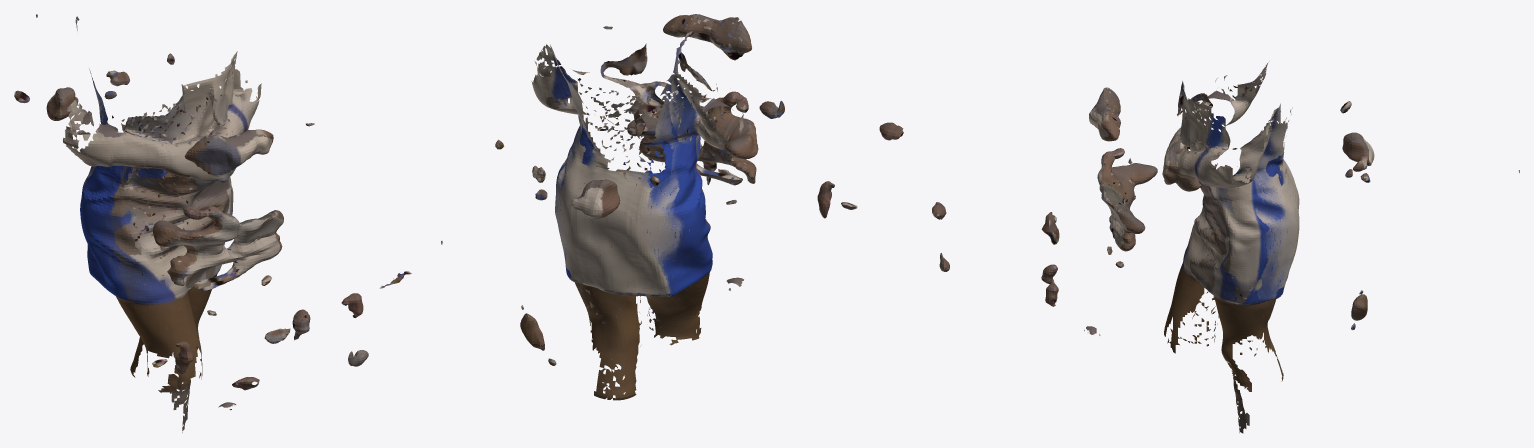
Rendered from gen-zola-v6-clean.glb.
3 renders of one model, left to right at view 1: azimuth 30°, elevation 25°; view 2: azimuth 150°, elevation 25°; view 3: azimuth 270°, elevation 25°, orthographic. The views are drawn at different scales.
Visible parts, largest first — view 1: geometry_0.3185; view 2: geometry_0.3185; view 3: geometry_0.3185.
Boxes of the visible parts, x1,y1,x2,y2 form: geometry_0.3185: [14, 14, 411, 432]; geometry_0.3185: [441, 14, 903, 400]; geometry_0.3185: [932, 62, 1519, 433].
Size of the model in its own units: 0.8803 by 1.38 by 1.94.
1 material, 1 textured.
